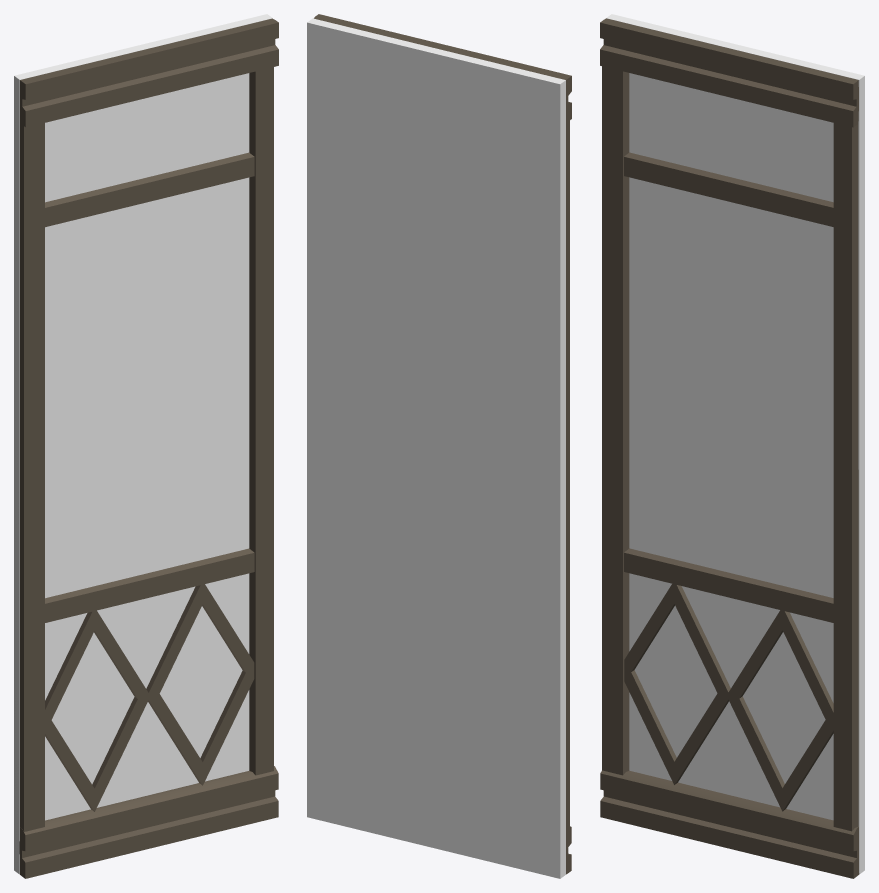
Rendered from WALL_01_1.fbx.
3 renders of one model, left to right at view 1: azimuth 30°, elevation 25°; view 2: azimuth 150°, elevation 25°; view 3: azimuth 330°, elevation 25°, orthographic.
Visible parts, largest first — view 1: WALL_01_1; view 2: WALL_01_1; view 3: WALL_01_1.
Part boxes in pixels (box(x1,y1,x2,y2)): WALL_01_1: box(14, 14, 278, 878); WALL_01_1: box(307, 14, 571, 878); WALL_01_1: box(600, 14, 864, 878).
Bounding box in the file's own units: 100 × 300 × 8.
